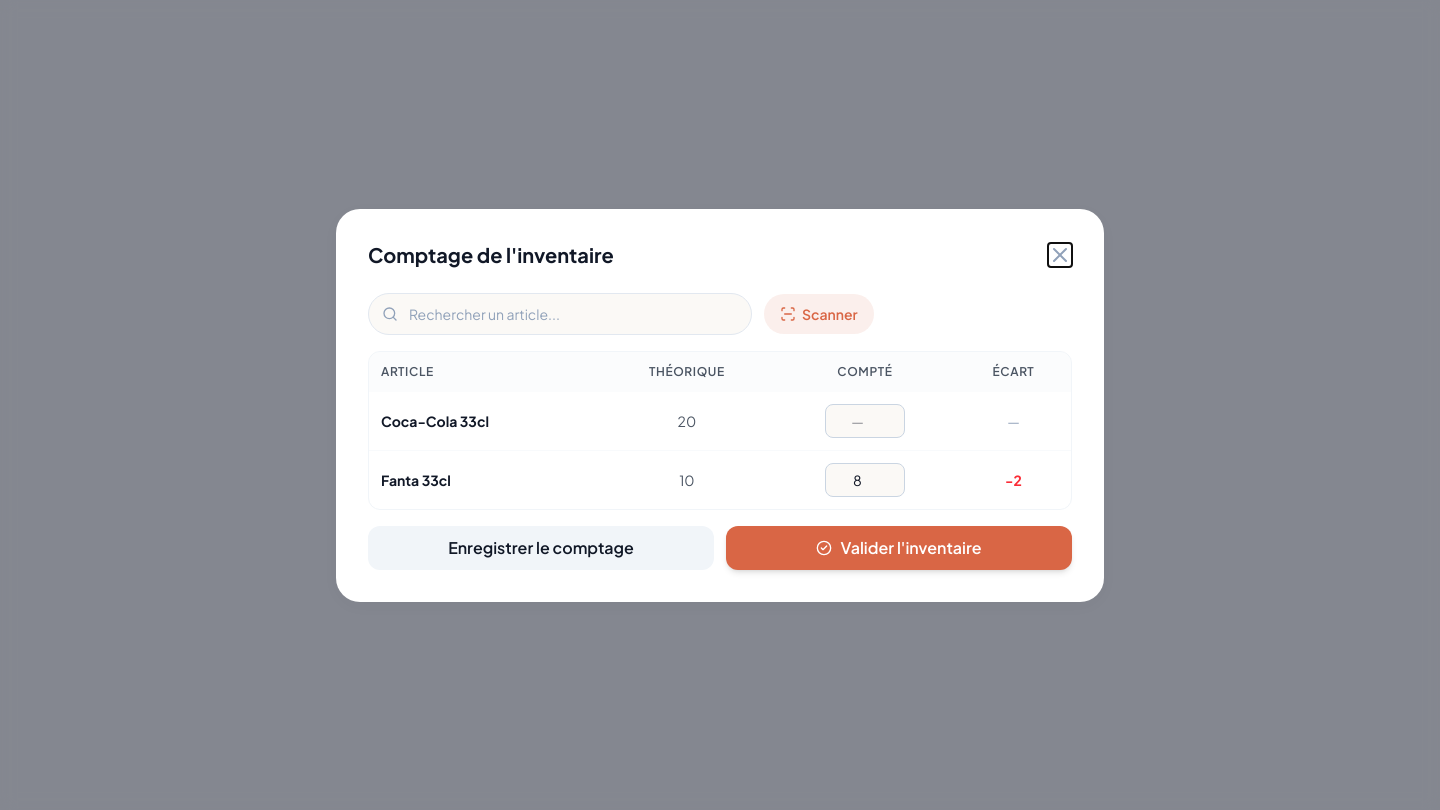
Scenario: InventoryCountModal barcode scanning › shows the scanned article with its théorique, pre-filled from any already-saved count
The image size is (1440, 810).
Expected: the text "Coca-Cola 33cl" is shown, [369,392,600,450]
Click the button "Scanner". click: point(819, 314)
box: [764,294,874,334]
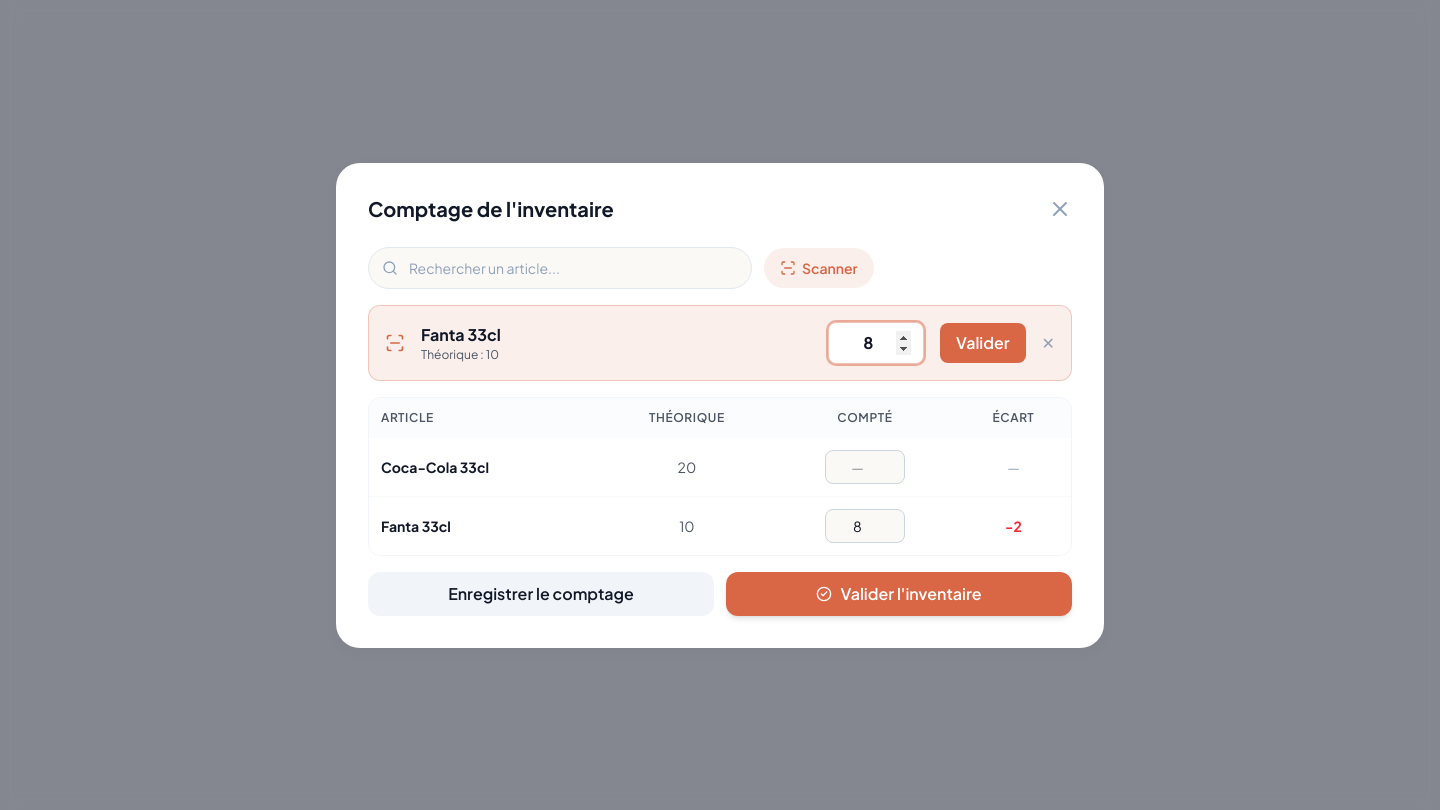
Result: the text "Théorique : 10" is shown at [421,346,499,362]
Result: the number field with placeholder "Qté" in the row of "Théorique :" holds "8" at [828,322,924,364]
